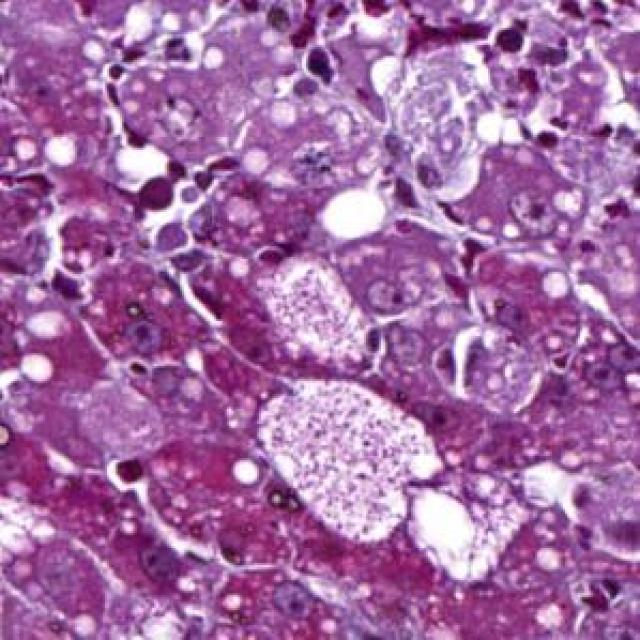ballooning: (246, 372, 450, 548), (404, 462, 542, 591)
